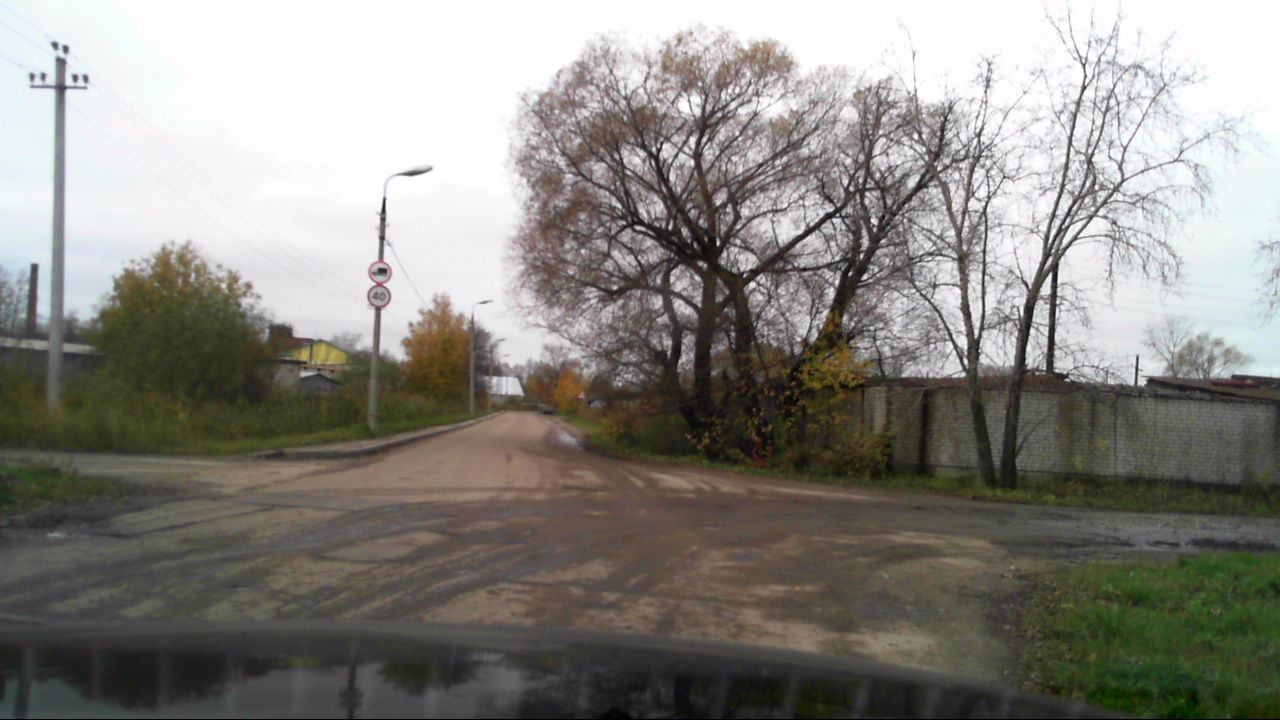speed_warning_40: (366, 284, 391, 307)
